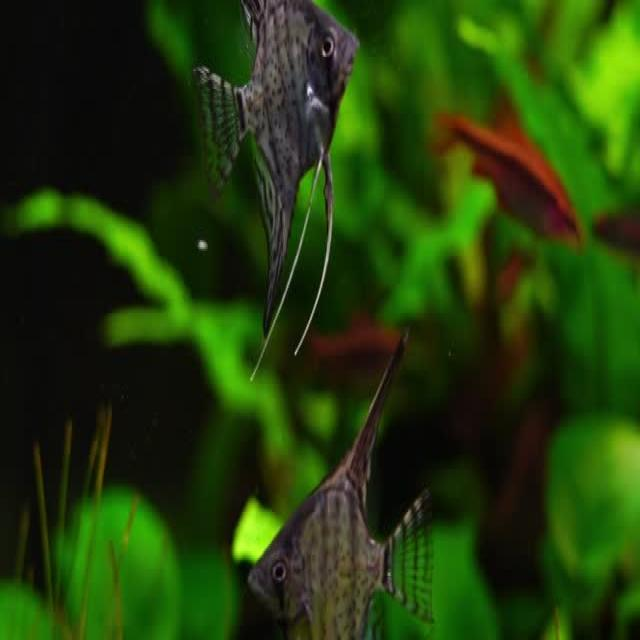AngelFish: (248, 334, 436, 640), (195, 1, 361, 336)
